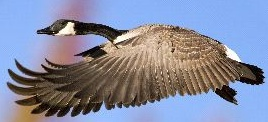goose: (6, 17, 268, 114)
